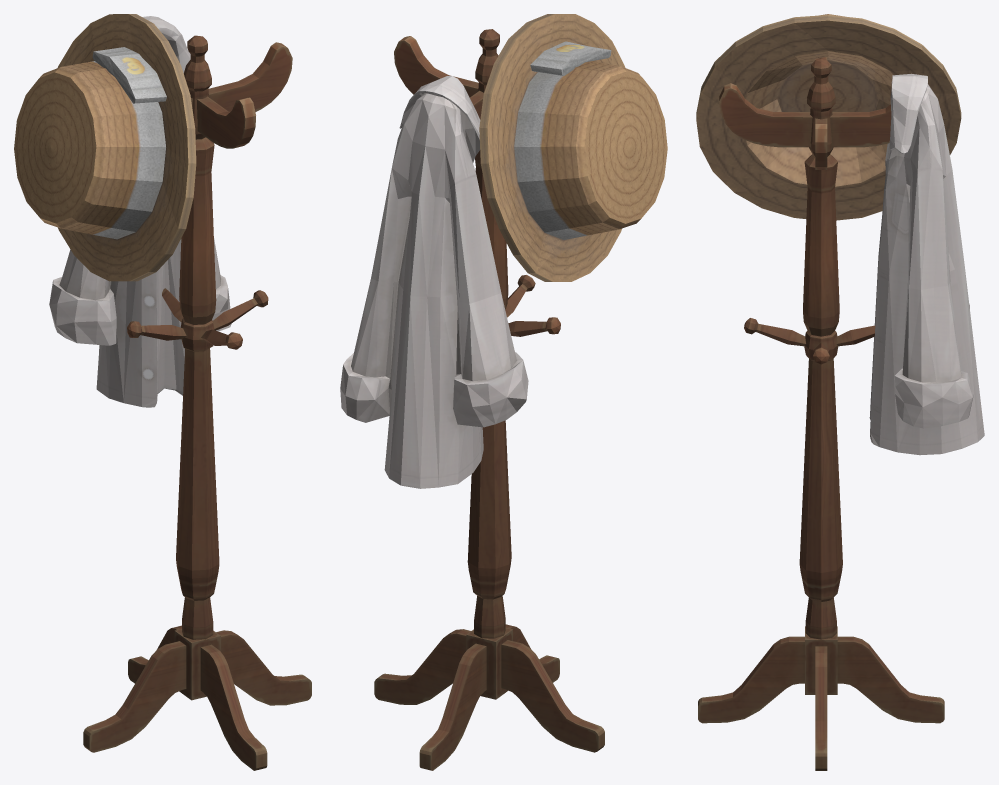
Rendered from P_ClothesHanger_011_S1_M01.obj.
3 renders of one model, left to right at view 1: azimuth 30°, elevation 25°; view 2: azimuth 150°, elevation 25°; view 3: azimuth 270°, elevation 25°, orthographic. The views are drawn at different scales.
Size of the model in its own units: 0.8122 by 2.08 by 0.7955.
Materials: 1 (1 with a texture image).
